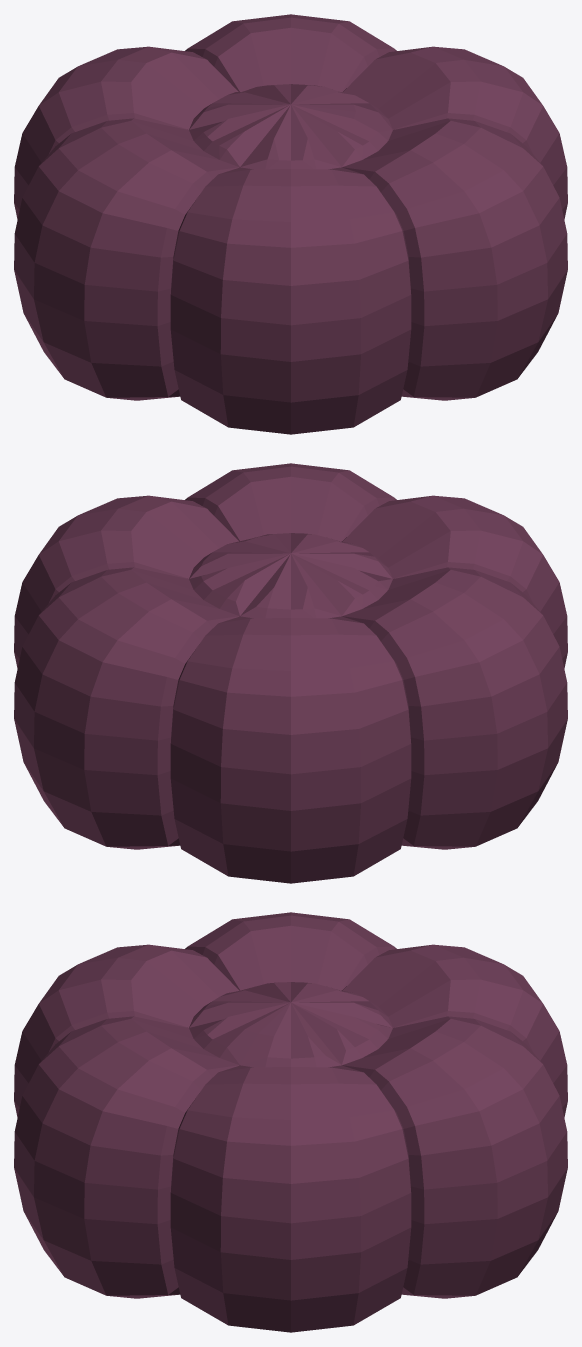
The model's file is Pumpkin_cushion.fbx.
3 renders of one model, top to bottom at view 1: azimuth 30°, elevation 25°; view 2: azimuth 150°, elevation 25°; view 3: azimuth 270°, elevation 25°, orthographic.
Parts seen in each view (by area): view 1: Pumpkin_cushion; view 2: Pumpkin_cushion; view 3: Pumpkin_cushion.
Part boxes in pixels (box(x1,y1,x2,y2)): Pumpkin_cushion: box(14, 14, 567, 434); Pumpkin_cushion: box(14, 463, 567, 883); Pumpkin_cushion: box(14, 912, 567, 1332).
Size of the model in its own units: 57.13 by 25.71 by 53.31.
